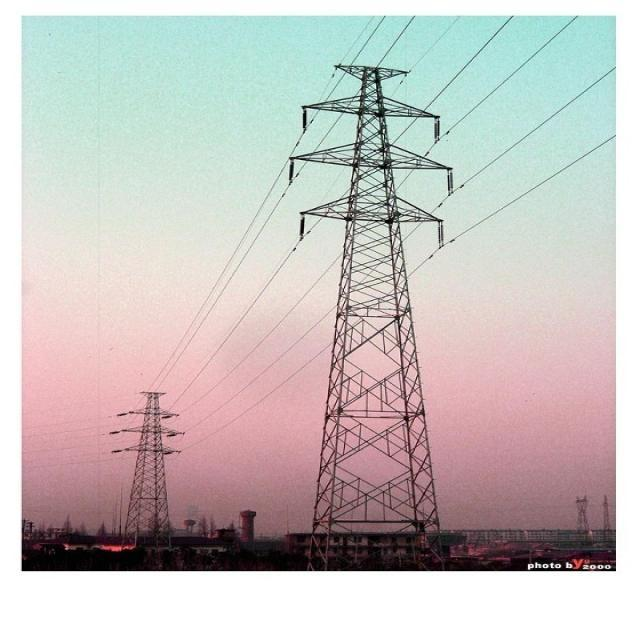non-critical vegetation: (281, 58, 477, 530), (105, 384, 199, 534)
